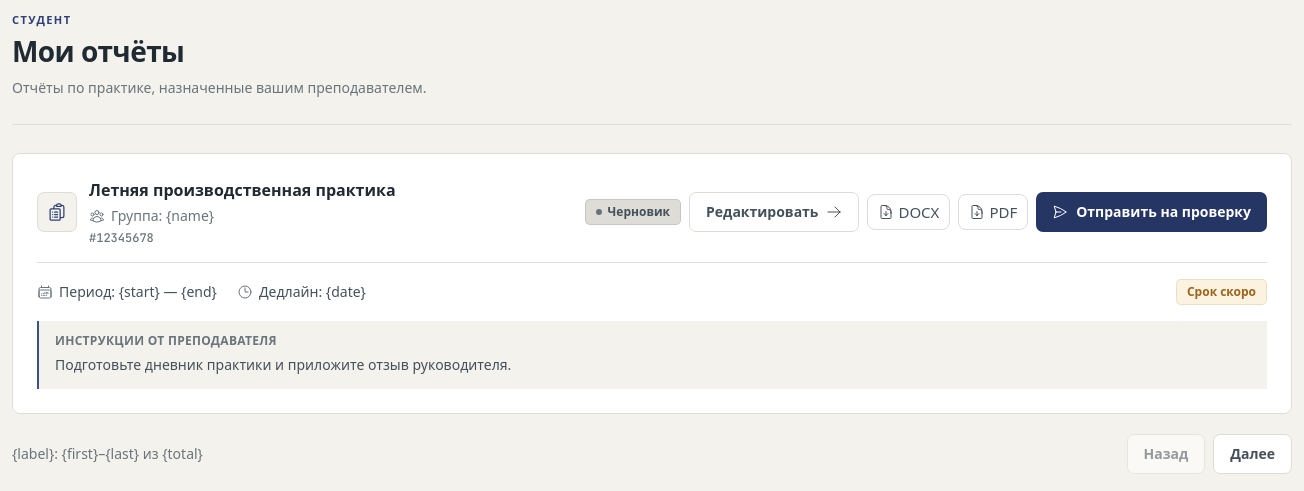
Test case: StudentReportsPage pagination › moves to the next server page
Check: the text "#12345678" is shown, box 89,230 -> 154,246
Click the button with aria-label "Следующая страница" at (1253, 454), box 1213,434 -> 1292,474
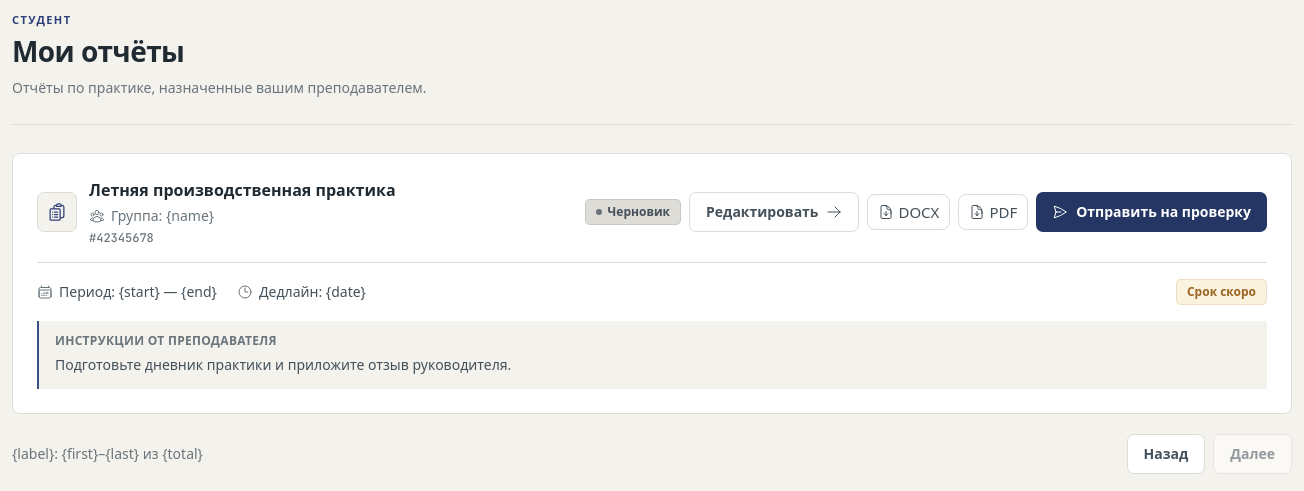
Check: the text "#42345678" is shown, box 89,230 -> 154,246
